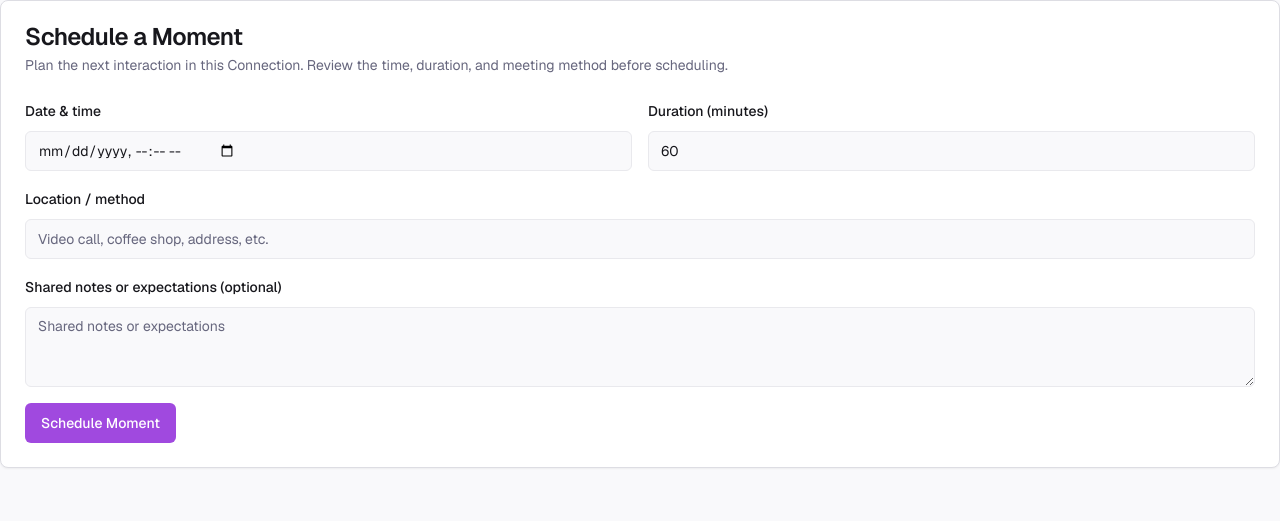
Test: MomentScheduler › rejects an invalid duration of 14 before calling the server
The width and height of the screenshot is (1280, 521).
In the field labelled "Date & time": (328, 151) 25,131 -> 632,171, type "2026-12-10T10:00"
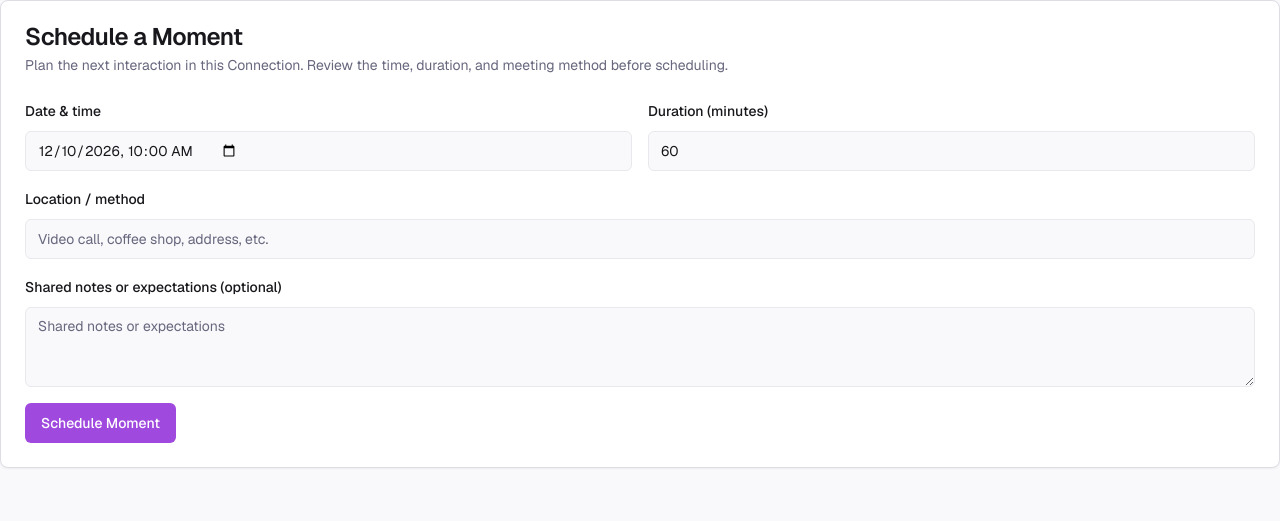
Replace the text in the number field labelled "Duration (minutes)" with "14": (952, 151) 648,131 -> 1255,171
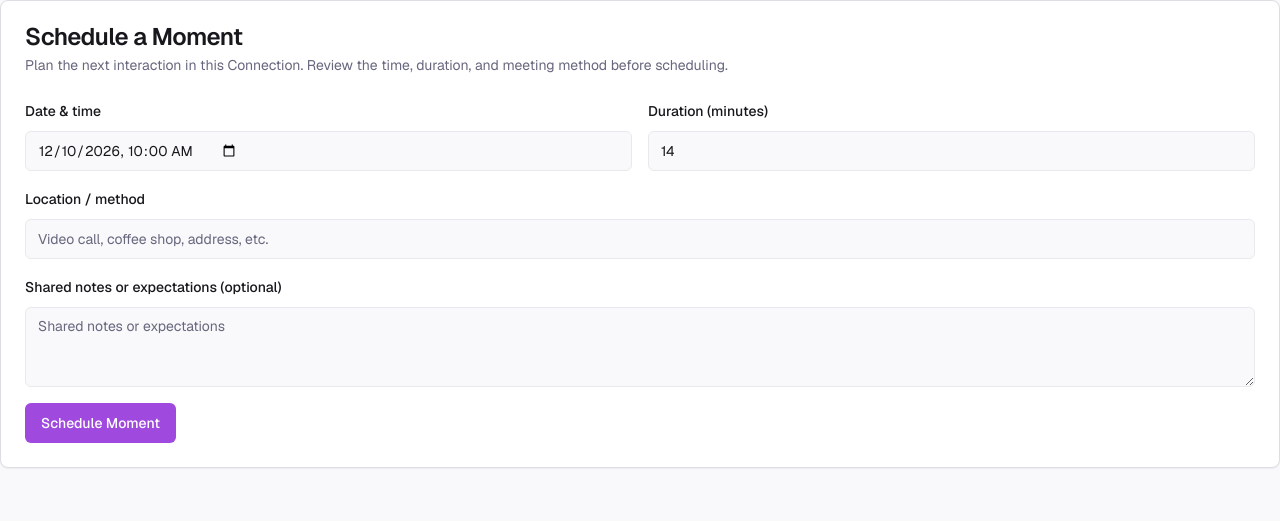
Click the button "Schedule Moment": click(100, 423) 25,403 -> 176,443
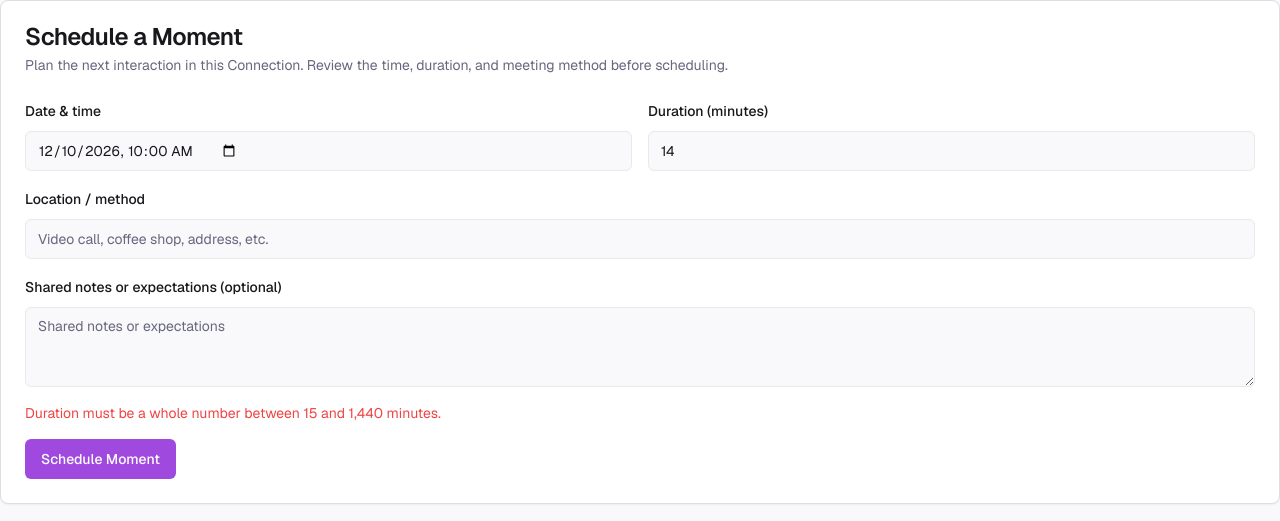
Expected: the message reads "Duration must be a whole number between 15 and 1,440 minutes.", 25,404 -> 441,422
